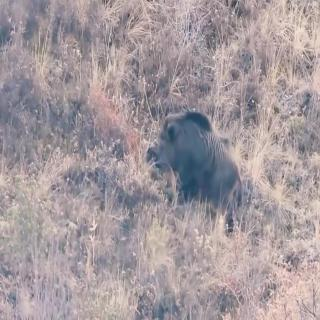Pig: (144, 93, 250, 227)
